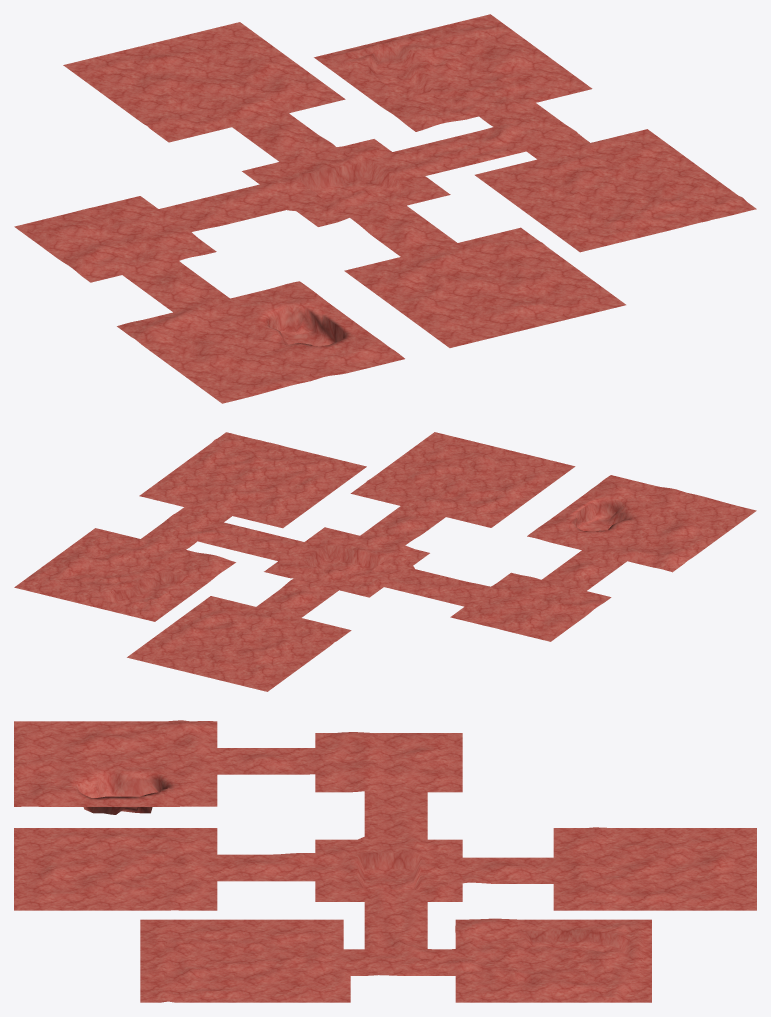
Rendered from Piso.fbx.
The picture shows the model from 3 angles, top to bottom: view 1: azimuth 30°, elevation 25°; view 2: azimuth 150°, elevation 25°; view 3: azimuth 270°, elevation 25°; orthographic projection. The views are drawn at different scales.
Visible parts, largest first — view 1: Piso; view 2: Piso; view 3: Piso.
Boxes of the visible parts, x1=… form: Piso: x1=14, y1=14, x2=756, y2=403; Piso: x1=14, y1=432, x2=756, y2=691; Piso: x1=14, y1=720, x2=756, y2=1002.
Size of the model in its own units: 2157 by 80.03 by 2405.
